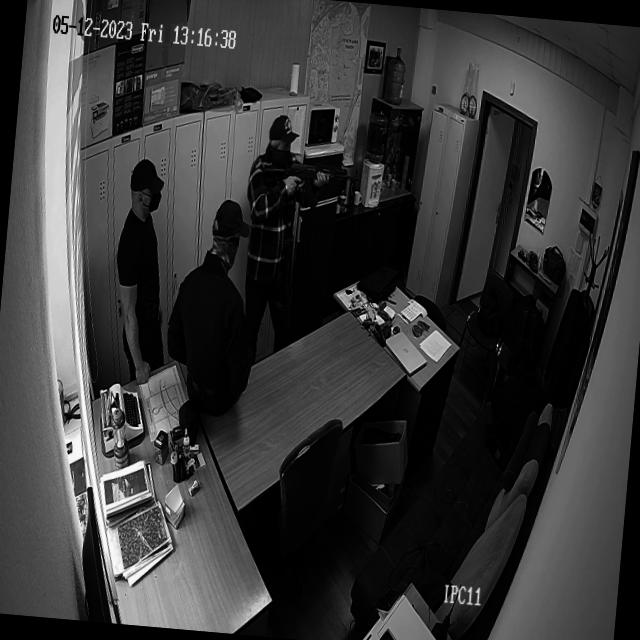gun: (259, 158, 360, 215), (516, 246, 528, 262)
person: (156, 196, 261, 428), (109, 160, 181, 374)
person with a gun: (231, 126, 364, 374)
